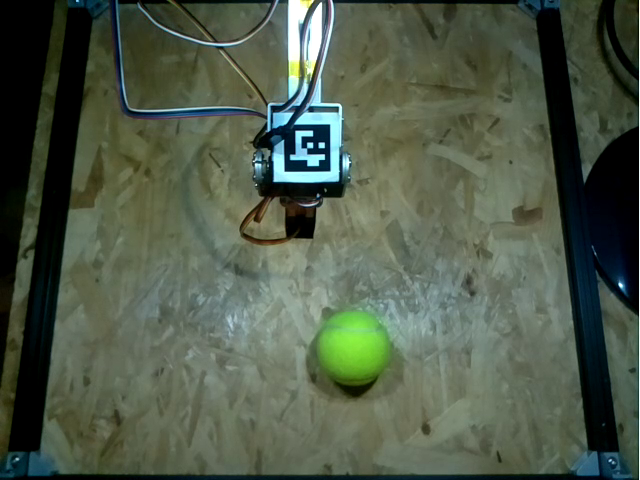tennis_ball: (314, 310, 389, 385)
